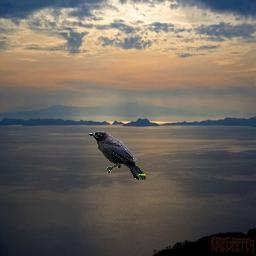Crow: (88, 131, 146, 180)
